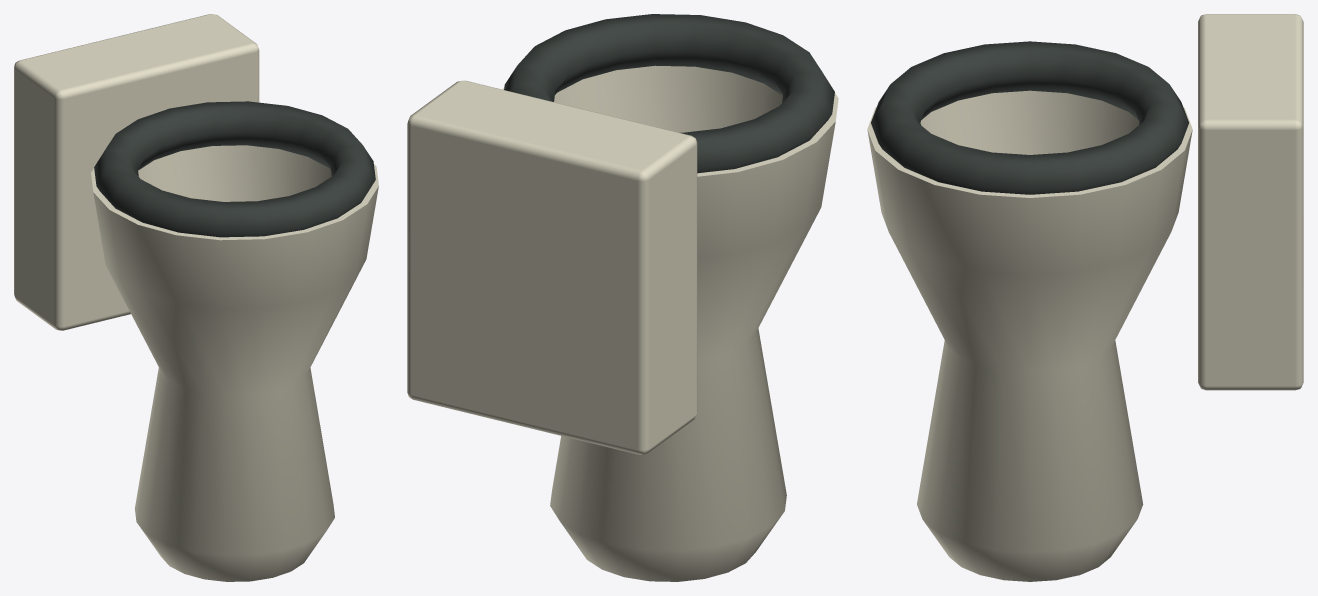
File: bunker-shelter-construction-chemical-toilet-0735780c__23352.glb
3 views of the same model, side by side, from view 1: azimuth 30°, elevation 25°; view 2: azimuth 150°, elevation 25°; view 3: azimuth 270°, elevation 25° (orthographic). The views are drawn at different scales.
Parts seen in each view (by area): view 1: chemical-toilet; view 2: chemical-toilet; view 3: chemical-toilet.
Part boxes in pixels (bbox=[...]): chemical-toilet: bbox=[14, 14, 378, 581]; chemical-toilet: bbox=[407, 14, 838, 581]; chemical-toilet: bbox=[867, 14, 1303, 581].
Bounding box in the file's own units: 0.46 × 0.7475 × 0.6167.
